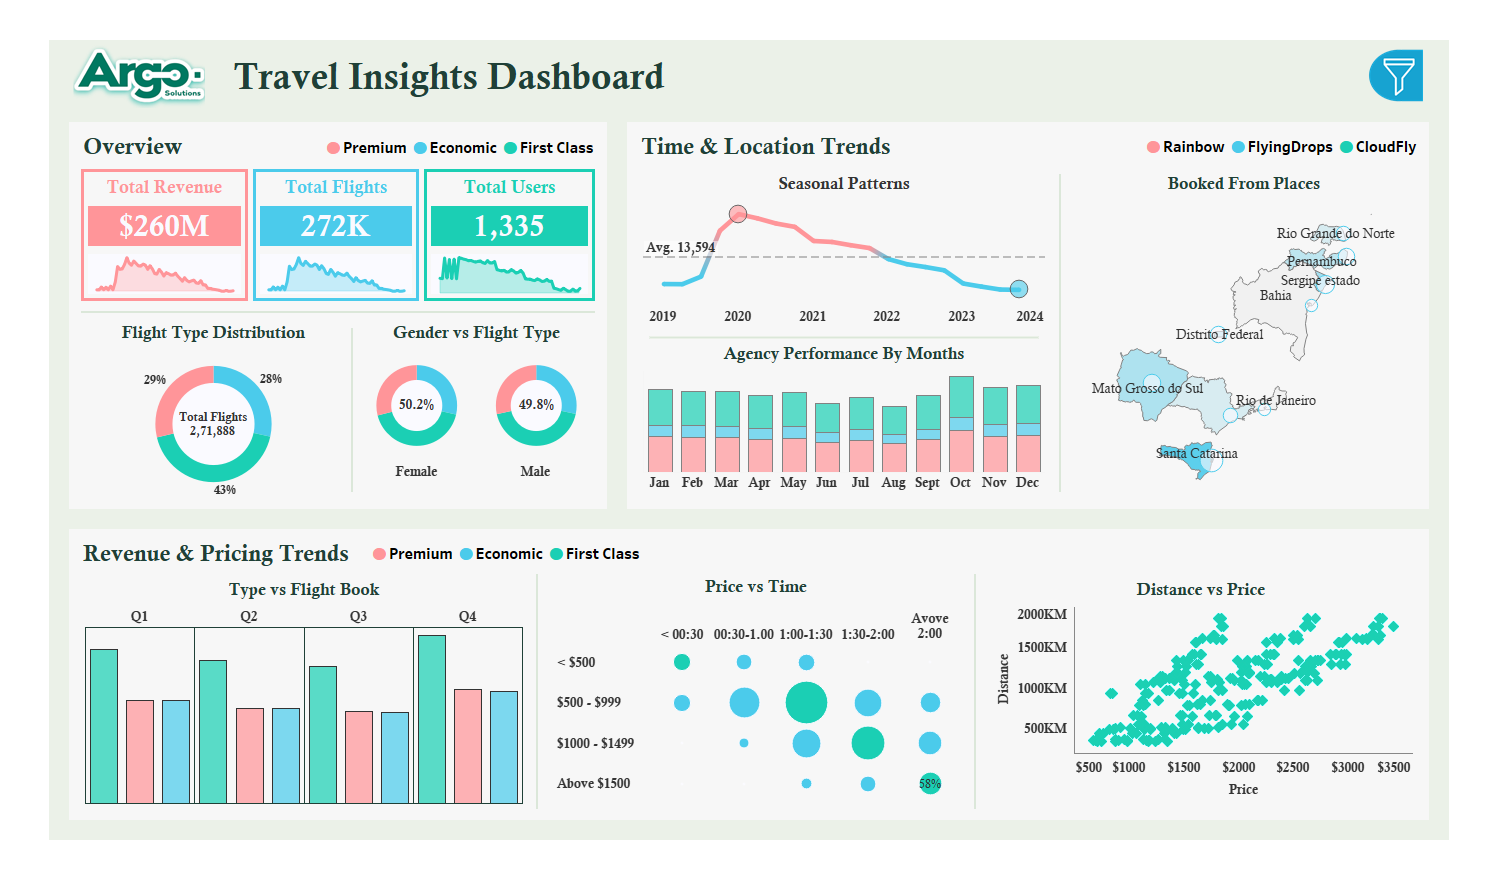

Layout of this report page (visuals, bound fields, positions):
{"tool":"tableau","page":{"name":"Travel Insights Dashboard ","canvas":[1400,800],"ordinal":0},"visuals":[{"type":"image","param":"Image/opicity-Photoroom.png","box":[0,0,181,72]},{"type":"text","box":[181,0,1131,72]},{"type":"dashboard-object","box":[1314,8,64,55]},{"type":"blank","box":[1165,21,215,42]},{"type":"text","box":[1165,63,215,53.1]},{"type":"text","box":[27,89,524,35]},{"type":"text","box":[585,89,788,35]},{"type":"text","box":[1091,91,283,30]},{"type":"text","box":[271,92,276,30]},{"type":"blank","box":[1165,116.1,215,32]},{"type":"blank","box":[1005,124,12,338]},{"type":"text","box":[590,129,410,28]},{"type":"text","box":[1022,129,346,28]},{"type":"text","box":[35,132,161,30]},{"type":"text","box":[207,132,160,30]},{"type":"text","box":[378,132,165,30]},{"type":"filter","title":"Flight Type Dist.","param":"[federated.03qpiwv1o8qfhr1g5vx4q09mj48m].[yr:Date:ok]","box":[1165,148.1,215,53.1]},{"type":"worksheet","title":"Seasonal Patterns ","mark":"Line","rows":["Calculation_1407656415848149008","Calculation_1644658346973351936"],"cols":["Date"],"box":[590,157,410,139.5]},{"type":"worksheet","title":"Flights From BS","mark":"Automatic","box":[1022,157,346,300]},{"type":"worksheet","title":"Total Revenue","mark":"Automatic","box":[35,162,161,48]},{"type":"worksheet","title":"Total Flights","mark":"Automatic","box":[207,162,160,48]},{"type":"worksheet","title":"Total Users","mark":"Automatic","box":[378,162,165,48]},{"type":"blank","box":[1165,201.2,215,15]},{"type":"worksheet","title":"Total Revenue By Months","mark":"Line","rows":["Price","Price"],"cols":["Date"],"box":[35,210,161,48]},{"type":"worksheet","title":"Total Flights By Months","mark":"Area","rows":["Flights.csv_384318F6BD2944E09D30A136A7EE7C33","Flights.csv_384318F6BD2944E09D30A136A7EE7C33"],"cols":["Date"],"box":[207,210,160,48]},{"type":"worksheet","title":"Total Users By Months","mark":"Area","rows":["Calculation_1327717522190856217","Calculation_1327717522190856217"],"cols":["Date"],"box":[378,210,165,48]},{"type":"text","box":[1165,216.2,215,32]},{"type":"filter","title":"Flight Type Dist.","param":"[federated.03qpiwv1o8qfhr1g5vx4q09mj48m].[none:Calculation_1327717522193113114:n","box":[1165,248.2,215,53.1]},{"type":"blank","box":[27,266,524,12]},{"type":"text","box":[27,278,275,28]},{"type":"blank","box":[302,278,2,184]},{"type":"text","box":[304,278,247,28]},{"type":"blank","box":[590,296.5,410,3]},{"type":"text","box":[590,299.5,410,28]},{"type":"filter","title":"Flight Type Dist.","param":"[federated.03qpiwv1o8qfhr1g5vx4q09mj48m].[none:Agency Type:nk]","box":[1165,301.3,215,53.1]},{"type":"worksheet","title":"Flight Type Dist.","mark":"Pie","cols":["Calculation_1327717522195570718","Calculation_1327717522195570718"],"box":[27,306,275,156]},{"type":"worksheet","title":"Gender  vs Type","mark":"Pie","rows":["Calculation_1327717522195570718","Calculation_1327717522195570718"],"cols":["Calculation_1644658346988769282"],"box":[304,306,247,156]},{"type":"worksheet","title":"Agency Perform By Months","mark":"Bar","rows":["Flights.csv_384318F6BD2944E09D30A136A7EE7C33"],"cols":["Date"],"box":[590,327.5,410,129.5]},{"type":"blank","box":[1165,354.4,215,15]},{"type":"text","box":[1165,369.4,215,32]},{"type":"filter","title":"Flight Type Dist.","param":"[federated.03qpiwv1o8qfhr1g5vx4q09mj48m].[none:Full Name:nk]","box":[1165,401.4,215,53.1]},{"type":"filter","title":"Flight Type Dist.","param":"[federated.03qpiwv1o8qfhr1g5vx4q09mj48m].[none:Calculation_1644658346988769282:n","box":[1165,454.5,215,53.1]},{"type":"text","box":[27,496,1346,34]},{"type":"text","box":[317,498,276,30]},{"type":"filter","title":"Flight Type Dist.","param":"[federated.03qpiwv1o8qfhr1g5vx4q09mj48m].[none:Calculation_1407656415880024086:n","box":[1165,507.6,215,53.1]},{"type":"blank","box":[483,530,10,243]},{"type":"blank","box":[921,530,10,243]},{"type":"text","box":[32,535,446,28]},{"type":"text","box":[498,535,418,23]},{"type":"text","box":[936,535,432,28]},{"type":"worksheet","title":"Price vs Time","mark":"Circle","rows":["Calculation_1407656415813419010"],"cols":["Calculation_1407656415840600078"],"box":[498,558,418,210]},{"type":"filter","title":"Flight Type Dist.","param":"[federated.03qpiwv1o8qfhr1g5vx4q09mj48m].[none:Company:nk]","box":[1165,560.7,215,53.1]},{"type":"worksheet","title":"Type vs Flight Book","mark":"Bar","rows":["Calculation_1407656415848149008"],"cols":["Date","Calculation_1327717522193113114"],"box":[32,563,446,205]},{"type":"worksheet","title":"Distance vs Price ","mark":"Shape","rows":["Distance"],"cols":["Price"],"box":[936,563,432,205]},{"type":"blank","box":[1165,613.8,215,15]},{"type":"text","box":[1165,628.8,215,32]},{"type":"filter","title":"Flight Type Dist.","param":"[federated.03qpiwv1o8qfhr1g5vx4q09mj48m].[none:Calculation_1407656415920627737:n","box":[1165,660.8,215,53.1]},{"type":"filter","title":"Flight Type Dist.","param":"[federated.03qpiwv1o8qfhr1g5vx4q09mj48m].[none:Board City:nk]","box":[1165,713.9,215,52]},{"type":"blank","box":[1165,765.9,215,15.1]}]}

Visuals, with their boxes in screenshot pixels (x1, y1, x2, y2), scaled from the page's 1400x800 canvas onto the 1508x885 screenshot:
image: [0, 0, 195, 80]
text: [195, 0, 1413, 80]
dashboard-object: [1415, 9, 1484, 70]
blank: [1255, 23, 1486, 70]
text: [1255, 70, 1486, 128]
text: [29, 98, 594, 137]
text: [630, 98, 1479, 137]
text: [1175, 101, 1480, 134]
text: [292, 102, 589, 135]
blank: [1255, 128, 1486, 164]
blank: [1083, 137, 1095, 511]
text: [636, 143, 1077, 174]
text: [1101, 143, 1474, 174]
text: [38, 146, 211, 179]
text: [223, 146, 395, 179]
text: [407, 146, 585, 179]
"Flight Type Dist." filter: [1255, 164, 1486, 223]
"Seasonal Patterns " worksheet (Line marks): [636, 174, 1077, 328]
"Flights From BS" worksheet: [1101, 174, 1474, 506]
"Total Revenue" worksheet: [38, 179, 211, 232]
"Total Flights" worksheet: [223, 179, 395, 232]
"Total Users" worksheet: [407, 179, 585, 232]
blank: [1255, 223, 1486, 239]
"Total Revenue By Months" worksheet (Line marks): [38, 232, 211, 285]
"Total Flights By Months" worksheet (Area marks): [223, 232, 395, 285]
"Total Users By Months" worksheet (Area marks): [407, 232, 585, 285]
text: [1255, 239, 1486, 275]
"Flight Type Dist." filter: [1255, 275, 1486, 333]
blank: [29, 294, 594, 308]
text: [29, 308, 325, 339]
blank: [325, 308, 327, 511]
text: [327, 308, 594, 339]
blank: [636, 328, 1077, 331]
text: [636, 331, 1077, 362]
"Flight Type Dist." filter: [1255, 333, 1486, 392]
"Flight Type Dist." worksheet (Pie marks): [29, 339, 325, 511]
"Gender  vs Type" worksheet (Pie marks): [327, 339, 594, 511]
"Agency Perform By Months" worksheet (Bar marks): [636, 362, 1077, 506]
blank: [1255, 392, 1486, 409]
text: [1255, 409, 1486, 444]
"Flight Type Dist." filter: [1255, 444, 1486, 503]
"Flight Type Dist." filter: [1255, 503, 1486, 562]
text: [29, 549, 1479, 586]
text: [341, 551, 639, 584]
"Flight Type Dist." filter: [1255, 562, 1486, 620]
blank: [520, 586, 531, 855]
blank: [992, 586, 1003, 855]
text: [34, 592, 515, 623]
text: [536, 592, 987, 617]
text: [1008, 592, 1474, 623]
"Price vs Time" worksheet (Circle marks): [536, 617, 987, 850]
"Flight Type Dist." filter: [1255, 620, 1486, 679]
"Type vs Flight Book" worksheet (Bar marks): [34, 623, 515, 850]
"Distance vs Price " worksheet (Shape marks): [1008, 623, 1474, 850]
blank: [1255, 679, 1486, 696]
text: [1255, 696, 1486, 731]
"Flight Type Dist." filter: [1255, 731, 1486, 790]
"Flight Type Dist." filter: [1255, 790, 1486, 847]
blank: [1255, 847, 1486, 864]
